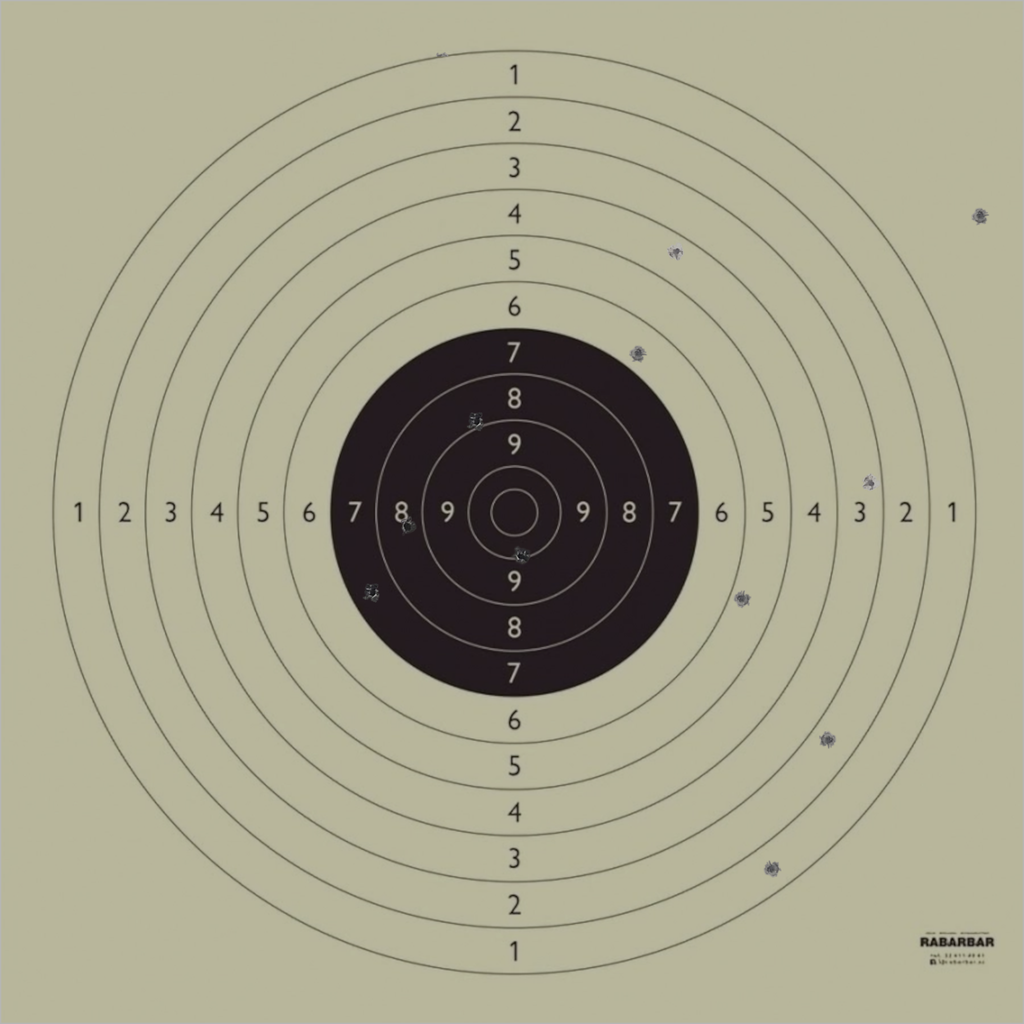0 punktow: (971, 206, 990, 225)
1 punkt: (762, 860, 781, 878)
10 punktow: (512, 547, 530, 565)
2 punkty: (819, 731, 838, 749)
3 punkty: (861, 474, 880, 492)
4 punkty: (667, 242, 686, 261)
5 punktow: (732, 590, 751, 608)
6 punktow: (629, 344, 647, 363)
7 punktow: (363, 583, 382, 601)
8 punktow: (398, 517, 417, 535)
9 punktow: (467, 412, 486, 430)
